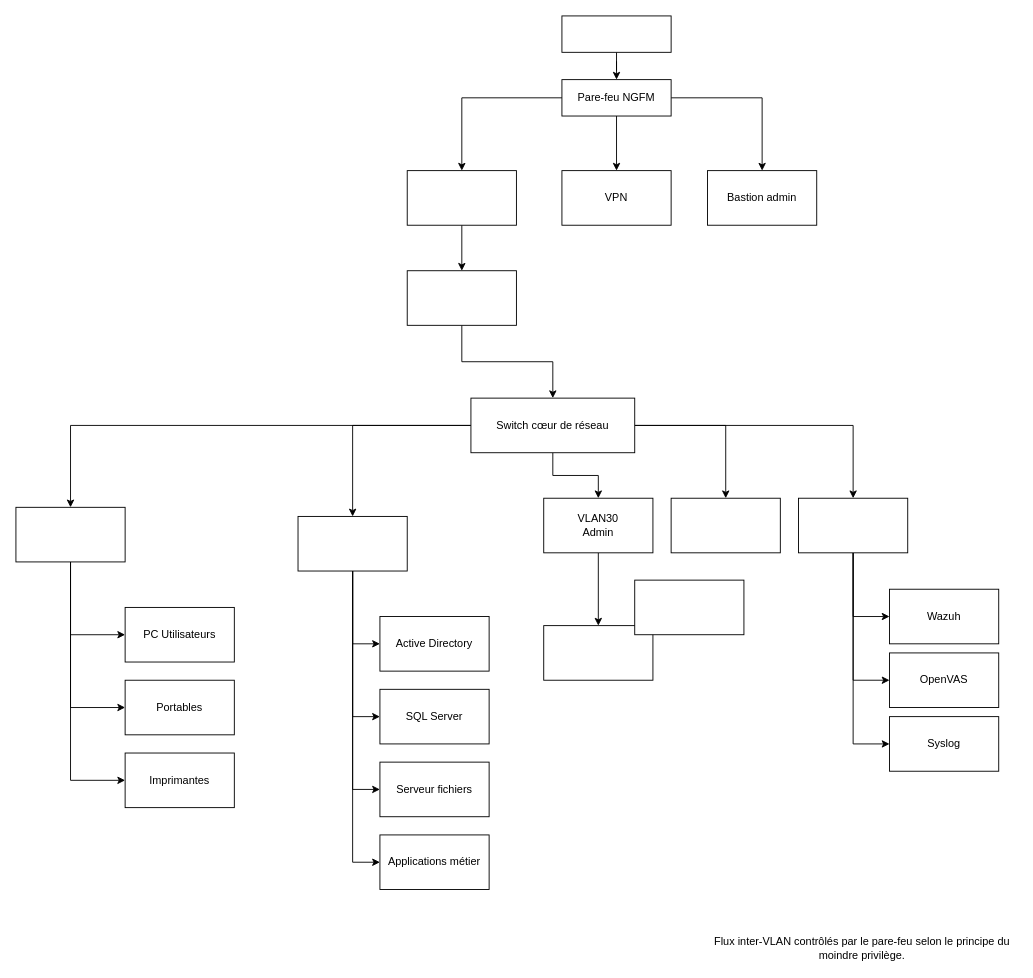
The diagram is 1033 pixels wide and 978 high, and some of its shapes have lost their labels. Each missing label, with the centre of its shape:
Bastion: [598,652]
DMZ: [461,197]
Internet: [616,33]
Reverse proxy: [461,297]
VLAN10 User: [70,534]
VLAN20 Serveurs: [352,543]
VLAN40 DMZ: [725,525]
VLAN50 Supervision: [853,525]
